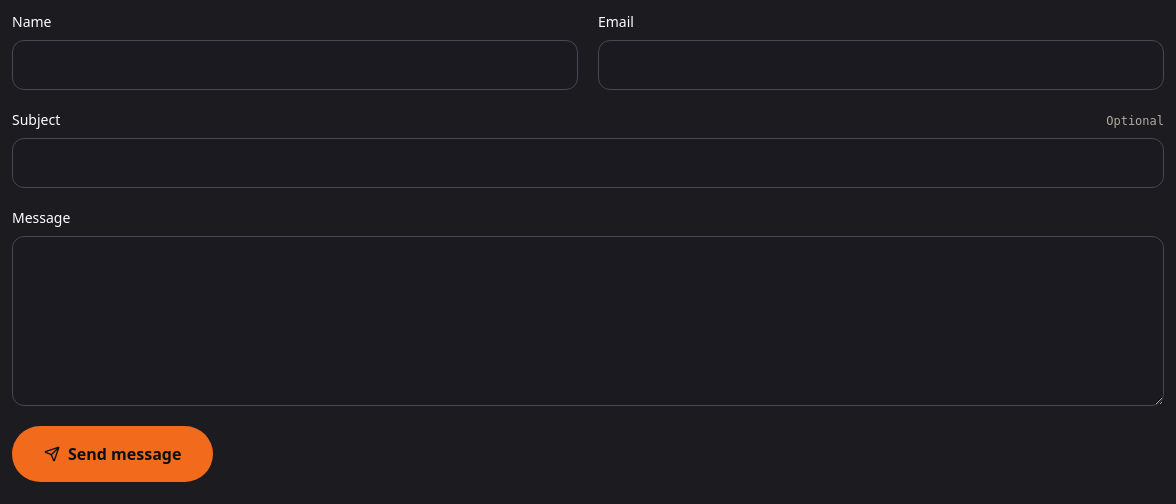
ContactForm › offers a way forward when the server cannot be reached
The width and height of the screenshot is (1176, 504).
Step 1. Type "Wanjiru Kamau" into the field labelled "Name" → {"x": 295, "y": 65}, box [12, 40, 578, 90]
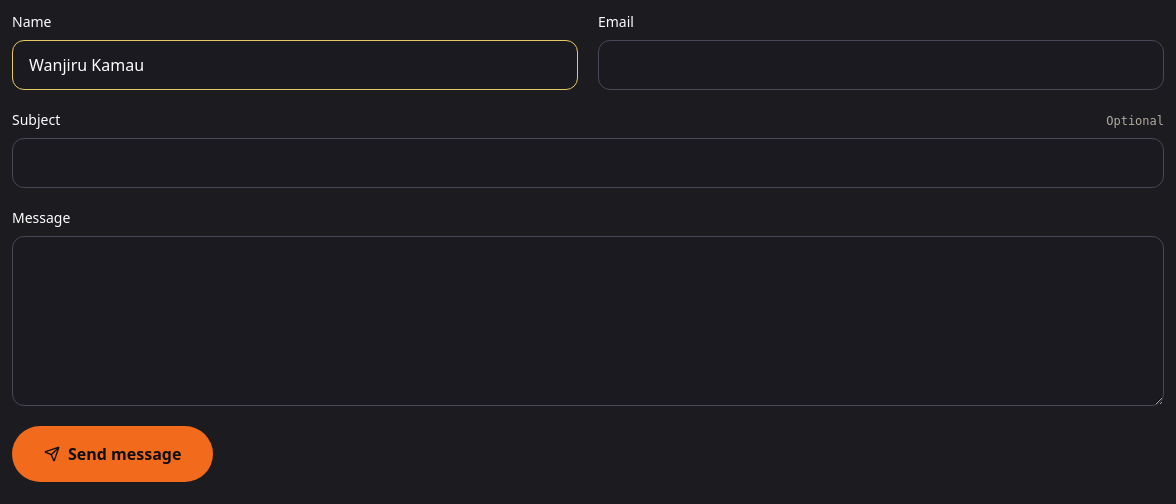
Step 2. Type "wanjiru@example.com" into the field labelled "Email" → {"x": 881, "y": 65}, box [598, 40, 1164, 90]
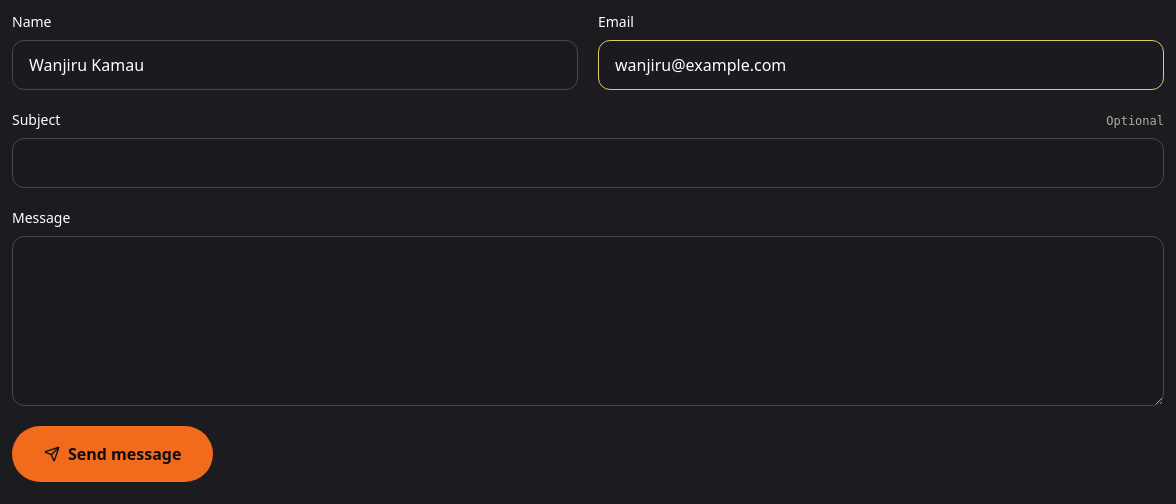
Step 3. Type "Hello Vincent, we have a backend role for you." into the text box labelled "Message" → {"x": 588, "y": 321}, box [12, 236, 1164, 406]
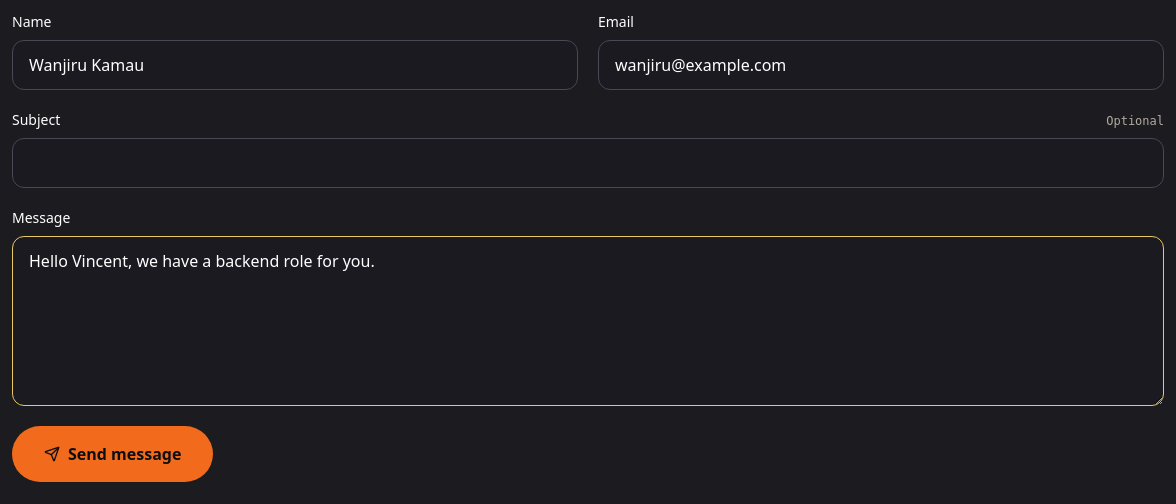
Step 4. Click the button "Send message" → {"x": 113, "y": 454}, box [12, 426, 213, 482]
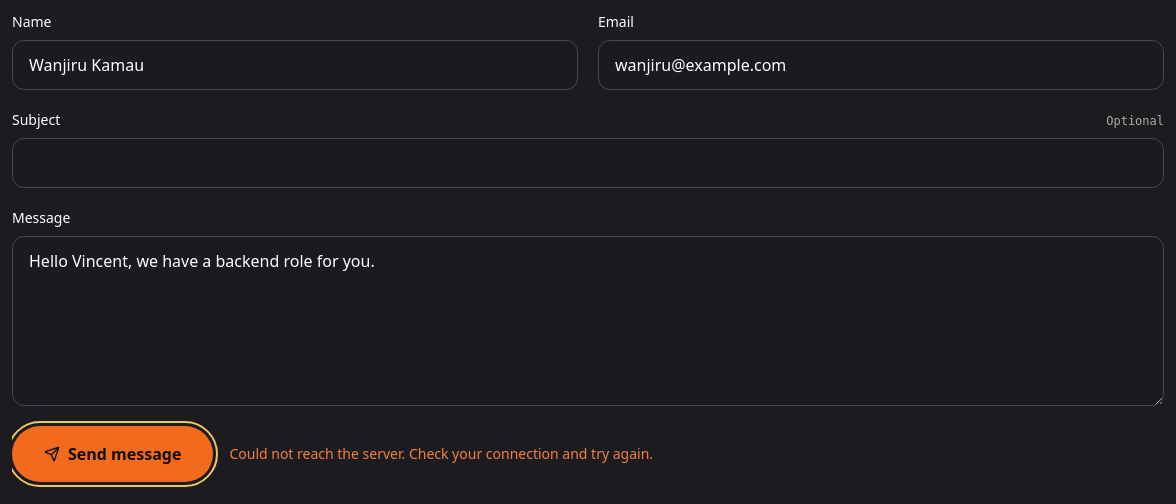
expect the text "Could not reach the server. Check your connection and try again." is shown: met, box [229, 444, 653, 464]
